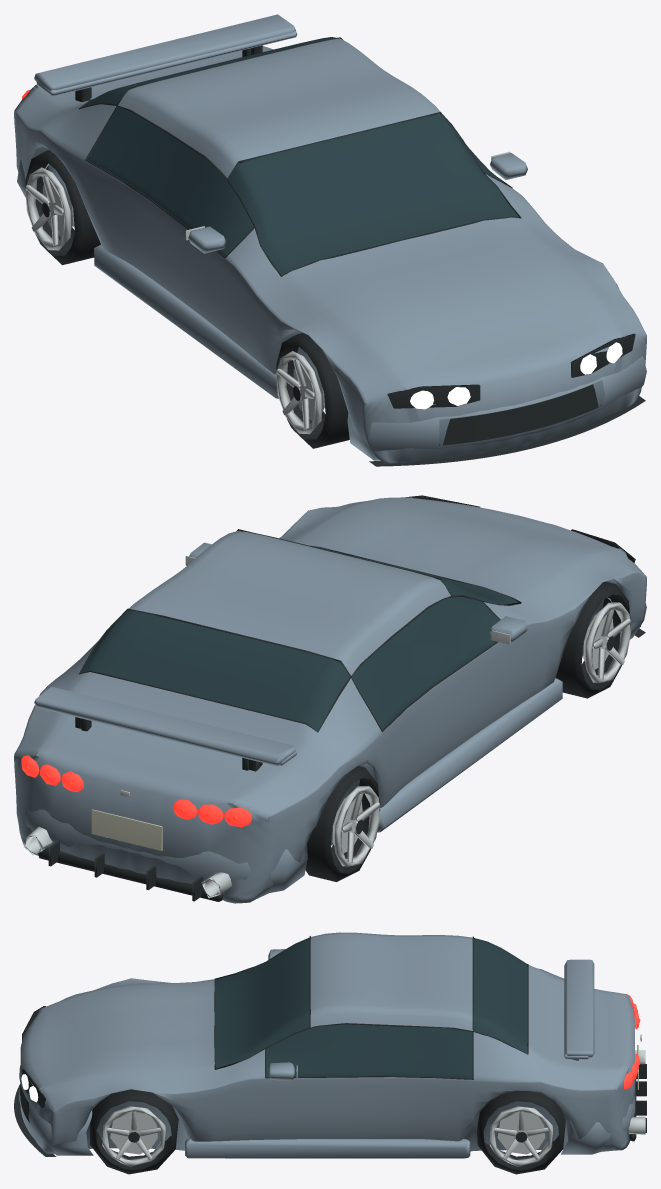
Rendered from ystren-cestyn.glb.
3 renders of one model, top to bottom at view 1: azimuth 30°, elevation 25°; view 2: azimuth 150°, elevation 25°; view 3: azimuth 270°, elevation 25°, orthographic. The views are drawn at different scales.
Parts seen in each view (by area): view 1: scocca, cofano, cristallo_ant, tetto, porta_sx, cristallo_sx, spoiler, minigonna_sx, paraurti_ant, griglia, ruota_ant_sx_gomma, ruota_post_sx_gomma (+15 smaller); view 2: scocca, tetto, portellone, cofano, cristallo_post, porta_sx, cristallo_sx, spoiler, minigonna_sx, paraurti_post, ruota_ant_sx_gomma, ruota_post_sx_gomma (+11 smaller); view 3: scocca, cofano, tetto, porta_dx, cristallo_dx, cristallo_ant, portellone, minigonna_dx, cristallo_post, spoiler, ruota_ant_dx_gomma, ruota_post_dx_gomma (+13 smaller).
Boxes of the visible parts, bbox=[...] form: scocca: bbox=[14, 46, 646, 463]; cofano: bbox=[282, 217, 620, 380]; cristallo_ant: bbox=[228, 114, 518, 275]; tetto: bbox=[118, 38, 440, 177]; porta_sx: bbox=[85, 161, 240, 346]; cristallo_sx: bbox=[87, 106, 253, 256]; spoiler: bbox=[34, 14, 295, 90]; minigonna_sx: bbox=[94, 244, 278, 398]; paraurti_ant: bbox=[347, 356, 646, 460]; griglia: bbox=[439, 384, 601, 445]; ruota_ant_sx_gomma: bbox=[276, 333, 349, 448]; ruota_post_sx_gomma: bbox=[25, 150, 100, 265]; scocca: bbox=[14, 497, 646, 903]; tetto: bbox=[129, 531, 450, 675]; portellone: bbox=[30, 672, 317, 806]; cofano: bbox=[290, 497, 620, 603]; cristallo_post: bbox=[80, 610, 349, 731]; porta_sx: bbox=[378, 635, 522, 807]; cristallo_sx: bbox=[351, 597, 499, 729]; spoiler: bbox=[34, 687, 295, 766]; minigonna_sx: bbox=[377, 678, 562, 832]; paraurti_post: bbox=[24, 808, 307, 893]; ruota_ant_sx_gomma: bbox=[555, 581, 630, 698]; ruota_post_sx_gomma: bbox=[305, 766, 380, 881]; scocca: bbox=[20, 968, 634, 1154]; cofano: bbox=[43, 979, 214, 1090]; tetto: bbox=[310, 932, 472, 1030]; porta_dx: bbox=[250, 1077, 473, 1151]; cristallo_dx: bbox=[266, 1024, 472, 1078]; cristallo_ant: bbox=[215, 937, 309, 1068]; portellone: bbox=[528, 965, 634, 1073]; minigonna_dx: bbox=[185, 1139, 470, 1158]; cristallo_post: bbox=[473, 938, 527, 1054]; spoiler: bbox=[565, 959, 594, 1057]; ruota_ant_dx_gomma: bbox=[89, 1089, 178, 1174]; ruota_post_dx_gomma: bbox=[477, 1091, 565, 1174].
Bounding box in the file's own units: 2.2 × 1.25 × 4.8.
